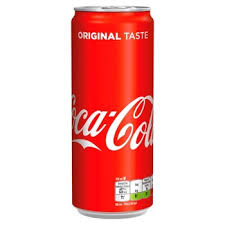coca_cola_can: (72, 6, 156, 219)
